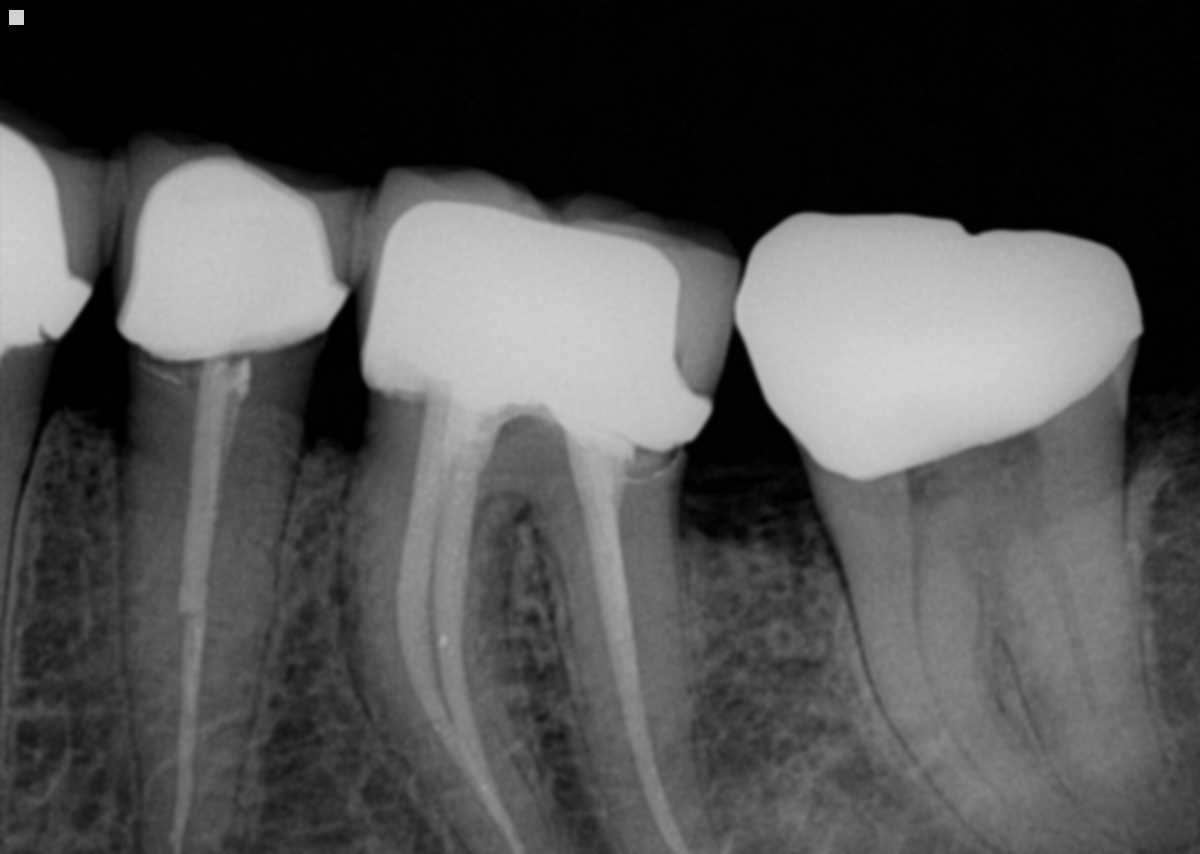Distal Canal: (1009, 500, 1116, 768)
Distal Root: (975, 473, 1200, 849), (524, 485, 720, 854)
Main Root: (126, 411, 309, 854), (0, 448, 33, 713)
Mesial Canal: (908, 515, 1090, 840)
Mesial Root: (828, 512, 1115, 854), (336, 432, 558, 854)
Root Canal Filling: (394, 435, 528, 854), (566, 452, 694, 854), (170, 382, 248, 854), (427, 477, 467, 759)
